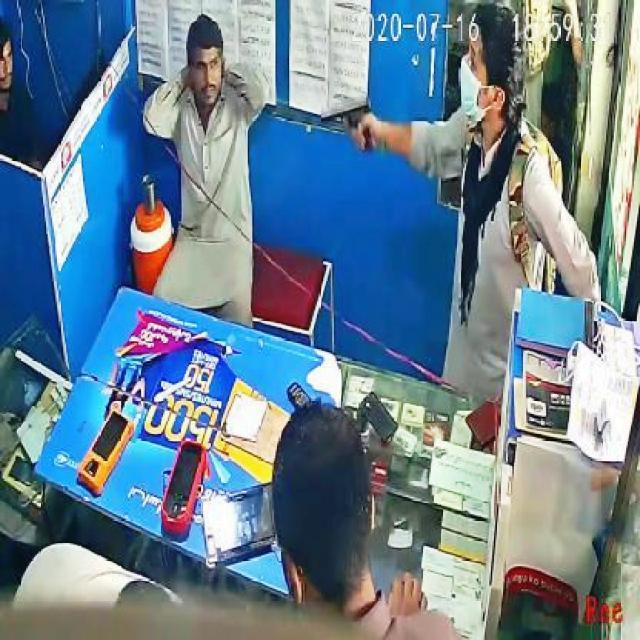Gun: (321, 92, 382, 162)
